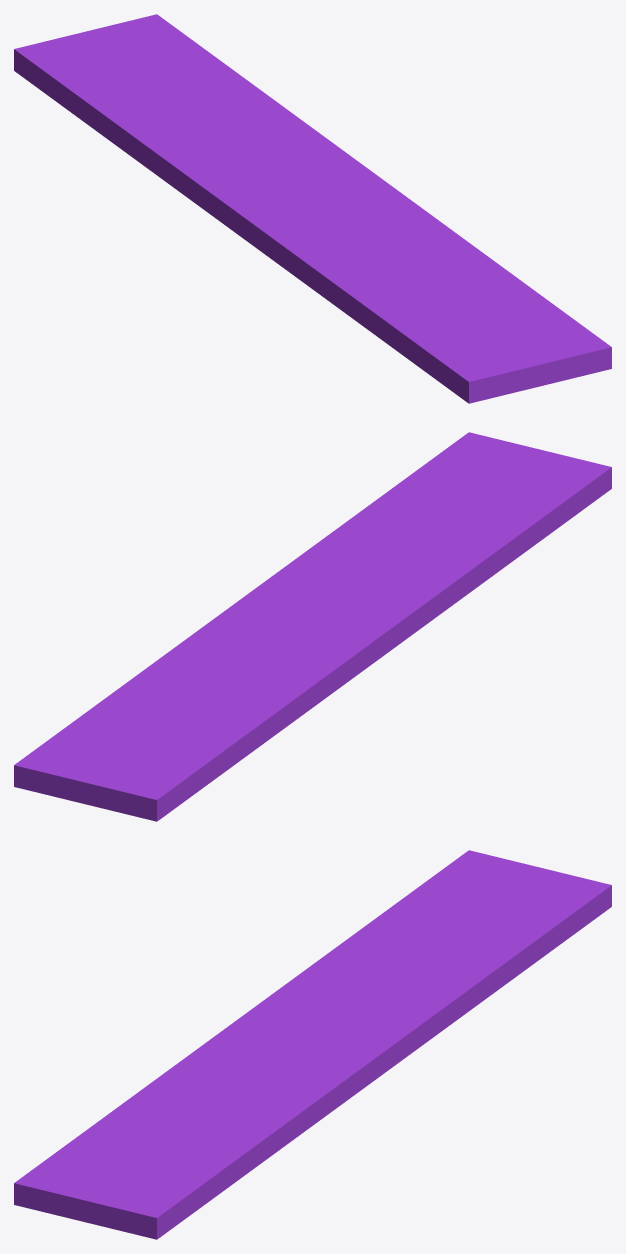
The model's file is StairsStep_66_chunks.fbx.
The picture shows the model from 3 angles, top to bottom: view 1: azimuth 30°, elevation 25°; view 2: azimuth 150°, elevation 25°; view 3: azimuth 330°, elevation 25°; orthographic projection.
Visible parts, largest first — view 1: StairsStep_66_7, StairsStep_66_5, StairsStep_66_0, StairsStep_66_1, StairsStep_66_8, StairsStep_66_9, StairsStep_66_4, StairsStep_66_2, StairsStep_66_3; view 2: StairsStep_66_5, StairsStep_66_7, StairsStep_66_0, StairsStep_66_8, StairsStep_66_1, StairsStep_66_9, StairsStep_66_4, StairsStep_66_2, StairsStep_66_3; view 3: StairsStep_66_7, StairsStep_66_5, StairsStep_66_9, StairsStep_66_1, StairsStep_66_8, StairsStep_66_0, StairsStep_66_4, StairsStep_66_3, StairsStep_66_2.
Boxes of the visible parts, bbox=[...] form: StairsStep_66_7: bbox=[344, 263, 611, 403]; StairsStep_66_5: bbox=[14, 14, 229, 161]; StairsStep_66_0: bbox=[162, 159, 321, 295]; StairsStep_66_1: bbox=[147, 146, 379, 202]; StairsStep_66_8: bbox=[313, 191, 409, 311]; StairsStep_66_9: bbox=[345, 178, 508, 271]; StairsStep_66_4: bbox=[204, 67, 311, 145]; StairsStep_66_2: bbox=[138, 127, 336, 185]; StairsStep_66_3: bbox=[295, 128, 354, 159]; StairsStep_66_5: bbox=[14, 691, 281, 821]; StairsStep_66_7: bbox=[366, 432, 611, 579]; StairsStep_66_0: bbox=[306, 575, 464, 705]; StairsStep_66_8: bbox=[282, 548, 490, 613]; StairsStep_66_1: bbox=[213, 601, 321, 702]; StairsStep_66_9: bbox=[238, 508, 396, 607]; StairsStep_66_4: bbox=[87, 649, 221, 711]; StairsStep_66_2: bbox=[215, 627, 314, 729]; StairsStep_66_3: bbox=[169, 620, 219, 651]; StairsStep_66_7: bbox=[14, 1094, 262, 1239]; StairsStep_66_5: bbox=[345, 850, 611, 963]; StairsStep_66_9: bbox=[229, 1042, 389, 1161]; StairsStep_66_1: bbox=[303, 948, 413, 1051]; StairsStep_66_8: bbox=[135, 1036, 343, 1101]; StairsStep_66_0: bbox=[163, 961, 317, 1074]; StairsStep_66_4: bbox=[404, 938, 538, 1001]; StairsStep_66_3: bbox=[389, 958, 533, 1069]; StairsStep_66_2: bbox=[336, 941, 410, 1071].
Bounding box in the file's own units: 200 × 28.98 × 1102.
